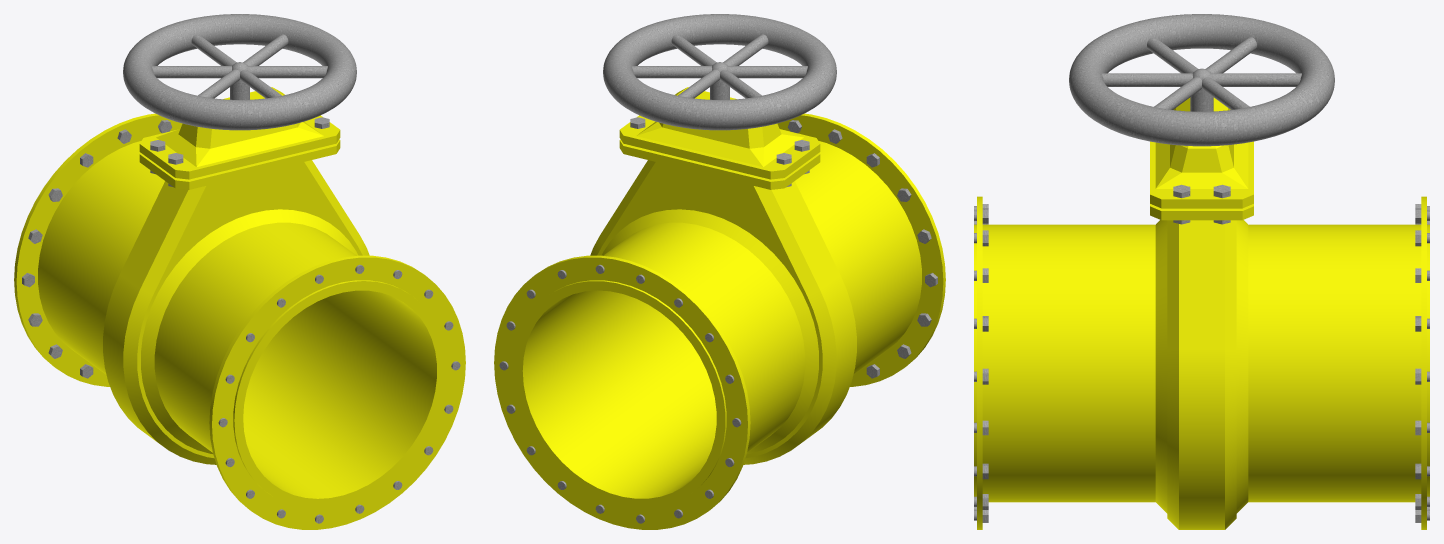
File: valve.obj
3 views of the same model, side by side, from view 1: azimuth 30°, elevation 25°; view 2: azimuth 150°, elevation 25°; view 3: azimuth 270°, elevation 25° (orthographic). The views are drawn at different scales.
Parts seen in each view (by area): view 1: Pipe, Handle, HandleSpokes, Bolts; view 2: Pipe, Handle, HandleSpokes, Bolts; view 3: Pipe, Handle, HandleSpokes, Bolts.
Boxes of the visible parts, x1,y1,x2,y2 form: Pipe: [14, 87, 465, 529]; Handle: [123, 14, 356, 130]; HandleSpokes: [152, 34, 327, 98]; Bolts: [22, 117, 460, 523]; Pipe: [494, 87, 945, 529]; Handle: [603, 14, 836, 130]; HandleSpokes: [632, 34, 807, 98]; Bolts: [499, 117, 937, 523]; Pipe: [974, 97, 1429, 529]; Handle: [1069, 14, 1334, 146]; HandleSpokes: [1102, 37, 1301, 109]; Bolts: [974, 184, 1429, 522].
Bounding box in the file's own units: 0.7315 × 1.09 × 1.
2 materials, 1 textured.
